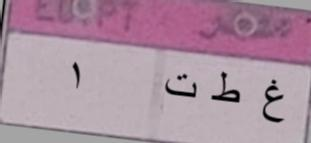1: (60, 60, 101, 94)
Taa: (206, 68, 245, 113)
ghayn: (257, 73, 292, 136)
taa: (160, 71, 201, 105)
